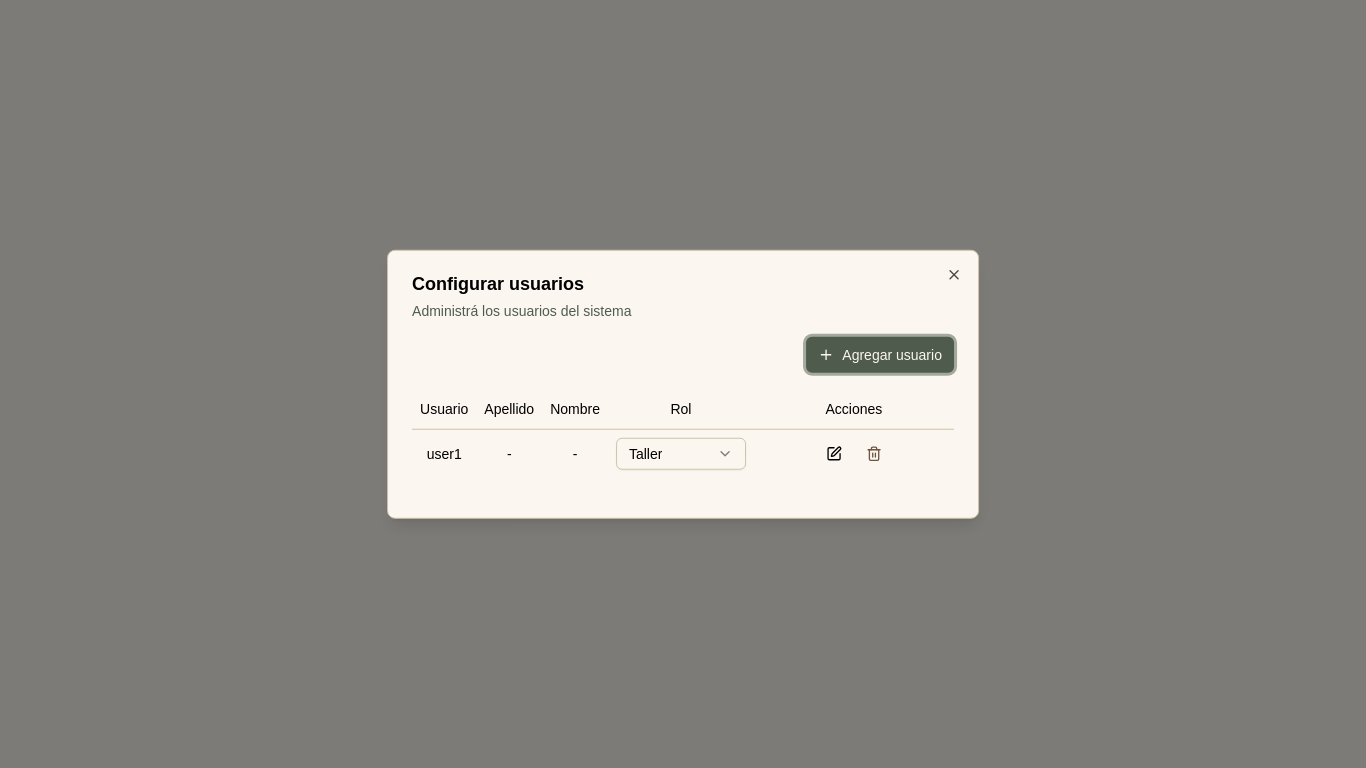
UsersDialog › shows edit form when clicking Editar button
Click the button named "editar user1" at (834, 453), box [816,437,852,469]
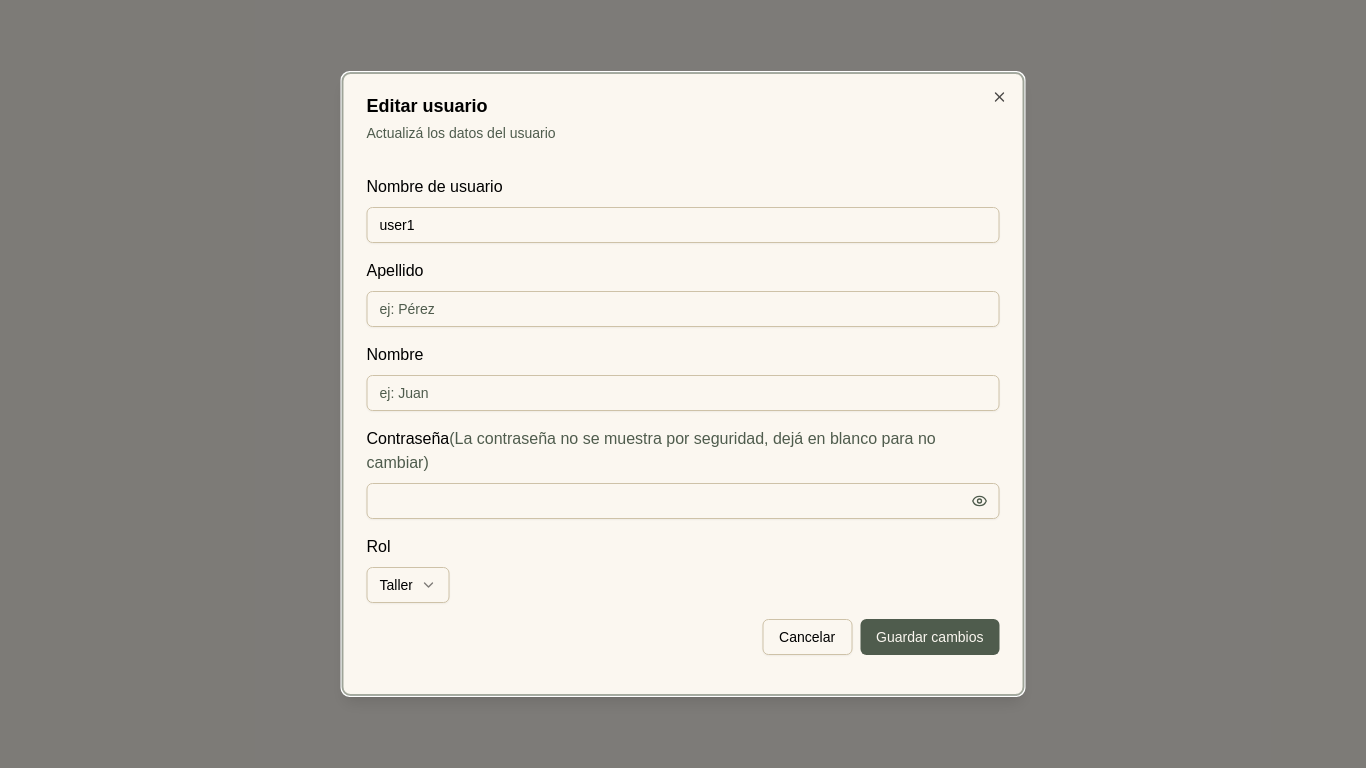
Check: the field showing "user1" is shown, box [366,207,1000,243]
Check: the button "Guardar cambios" is shown, box [860,619,1000,655]
Check: the heading "Editar usuario" is shown, box [366,96,488,116]
